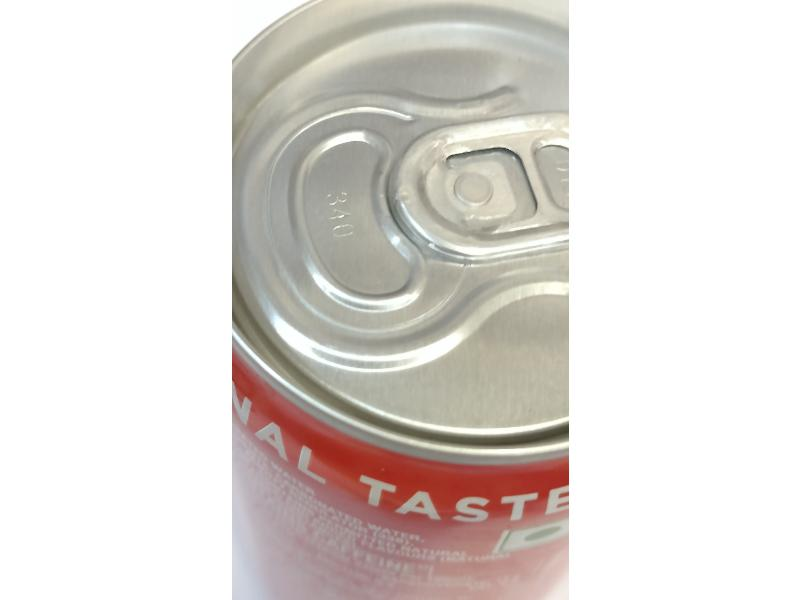can: (199, 8, 570, 599)
